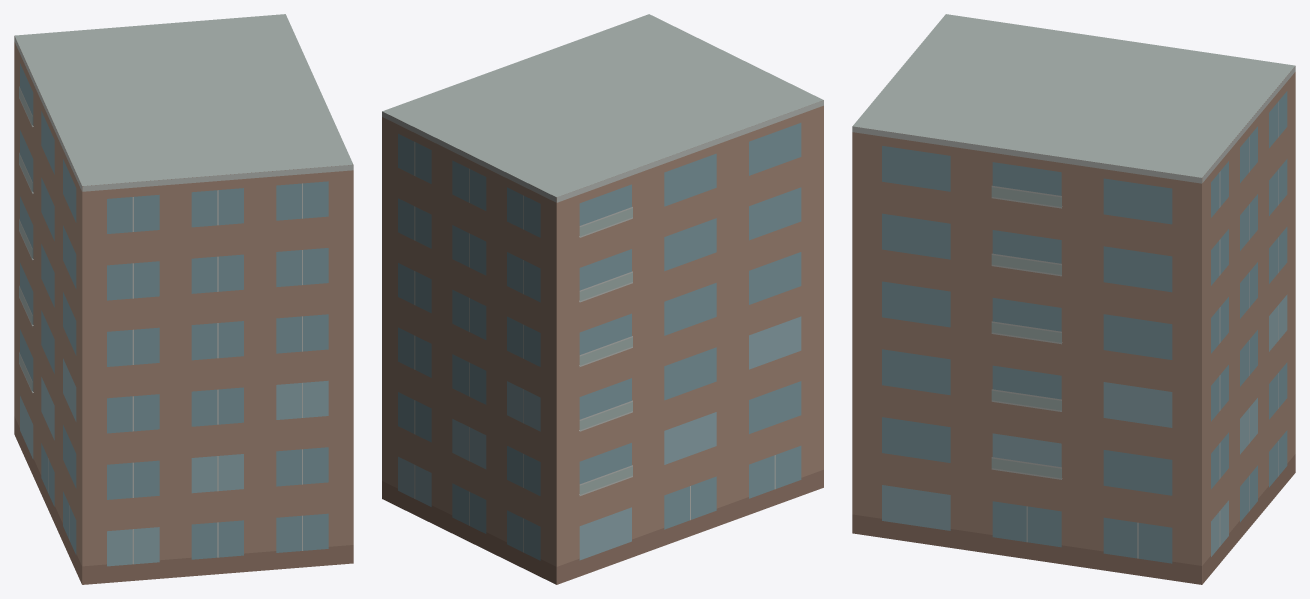
The model's file is survey-upis-32888413.glb.
The picture shows the model from 3 angles, left to right: view 1: azimuth 30°, elevation 25°; view 2: azimuth 150°, elevation 25°; view 3: azimuth 270°, elevation 25°; orthographic projection. The views are drawn at different scales.
Visible parts, largest first — view 1: survey-upis-32888413.tmp; view 2: survey-upis-32888413.tmp; view 3: survey-upis-32888413.tmp.
Boxes of the visible parts, bbox=[...] form: survey-upis-32888413.tmp: bbox=[14, 14, 353, 584]; survey-upis-32888413.tmp: bbox=[382, 14, 823, 584]; survey-upis-32888413.tmp: bbox=[852, 14, 1295, 584].
Size of the model in its own units: 14.86 by 17.2 by 16.99.
